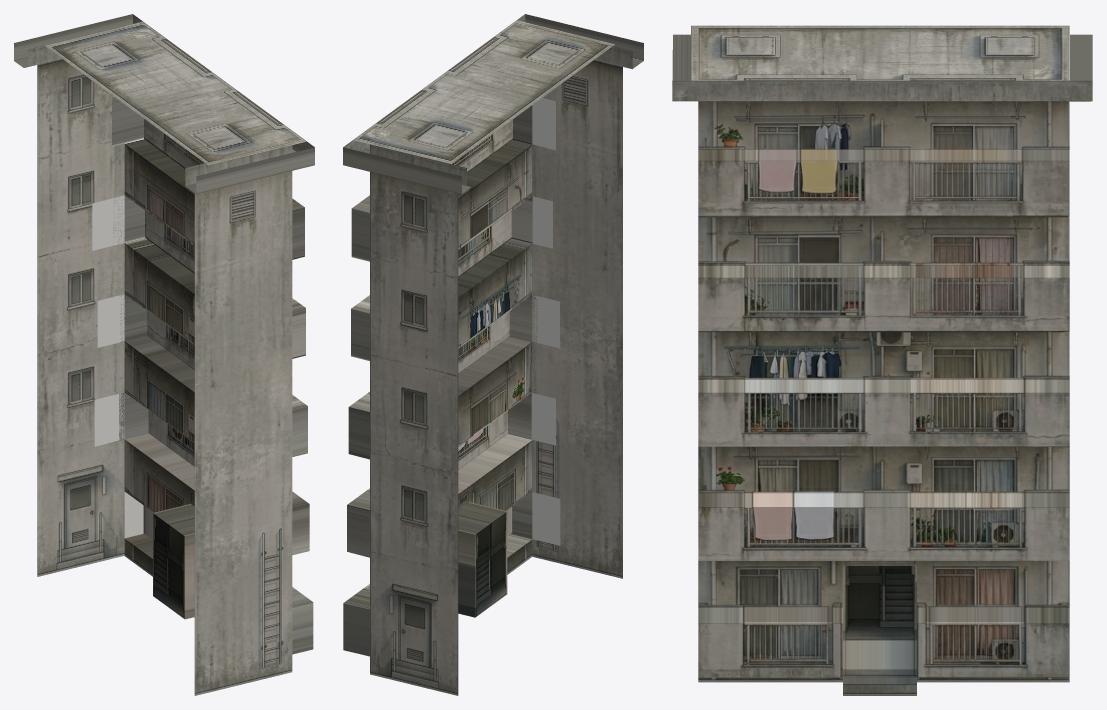
The model's file is partment01.glb.
3 views of the same model, side by side, from view 1: azimuth 30°, elevation 25°; view 2: azimuth 150°, elevation 25°; view 3: azimuth 270°, elevation 25° (orthographic). The views are drawn at different scales.
Visible parts, largest first — view 1: Gemini_Generated_Image_bf213mbf213mbf21 (1).004, Gemini_Generated_Image_bf213mbf213mbf21 (1), Gemini_Generated_Image_bf213mbf213mbf21 (1).003, Gemini_Generated_Image_bf213mbf213mbf21 (1).001, Gemini_Generated_Image_bf213mbf213mbf21 (1).006, Gemini_Generated_Image_bf213mbf213mbf21 (1).005; view 2: Gemini_Generated_Image_bf213mbf213mbf21 (1), Gemini_Generated_Image_bf213mbf213mbf21 (1).003, Gemini_Generated_Image_bf213mbf213mbf21 (1).004, Gemini_Generated_Image_bf213mbf213mbf21 (1).001, Gemini_Generated_Image_bf213mbf213mbf21 (1).006, Gemini_Generated_Image_bf213mbf213mbf21 (1).005; view 3: Gemini_Generated_Image_bf213mbf213mbf21 (1), Gemini_Generated_Image_bf213mbf213mbf21 (1).001.
Part boxes in pixels (left/top/right/bottom): Gemini_Generated_Image_bf213mbf213mbf21 (1).004: left=185, top=142, right=292, bottom=695; Gemini_Generated_Image_bf213mbf213mbf21 (1): left=14, top=14, right=314, bottom=654; Gemini_Generated_Image_bf213mbf213mbf21 (1).003: left=28, top=25, right=125, bottom=576; Gemini_Generated_Image_bf213mbf213mbf21 (1).001: left=45, top=21, right=306, bottom=165; Gemini_Generated_Image_bf213mbf213mbf21 (1).006: left=112, top=97, right=143, bottom=146; Gemini_Generated_Image_bf213mbf213mbf21 (1).005: left=113, top=195, right=144, bottom=244; Gemini_Generated_Image_bf213mbf213mbf21 (1): left=343, top=14, right=643, bottom=656; Gemini_Generated_Image_bf213mbf213mbf21 (1).003: left=343, top=144, right=466, bottom=695; Gemini_Generated_Image_bf213mbf213mbf21 (1).004: left=526, top=25, right=632, bottom=578; Gemini_Generated_Image_bf213mbf213mbf21 (1).001: left=353, top=20, right=615, bottom=163; Gemini_Generated_Image_bf213mbf213mbf21 (1).006: left=351, top=208, right=369, bottom=261; Gemini_Generated_Image_bf213mbf213mbf21 (1).005: left=351, top=309, right=369, bottom=360; Gemini_Generated_Image_bf213mbf213mbf21 (1): left=672, top=34, right=1092, bottom=695; Gemini_Generated_Image_bf213mbf213mbf21 (1).001: left=691, top=25, right=1069, bottom=80.
Bounding box in the file's own units: 0.1663 × 0.6556 × 0.4082.
Materials: 2 (2 with a texture image).
